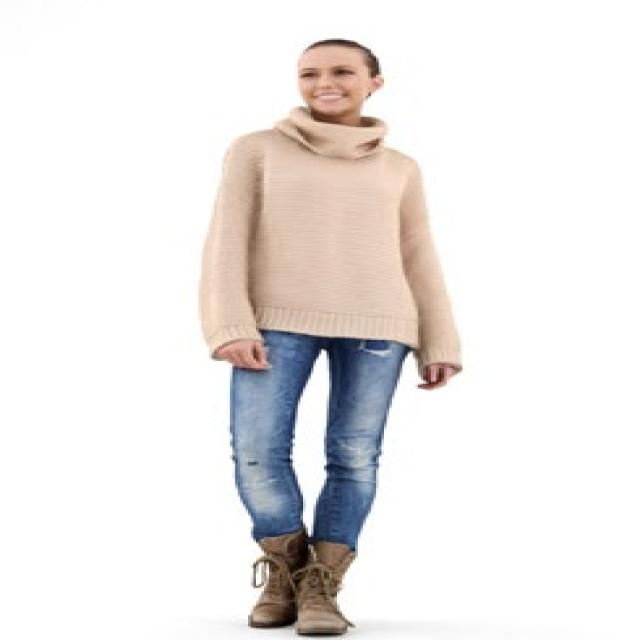standing: (196, 34, 468, 640)
